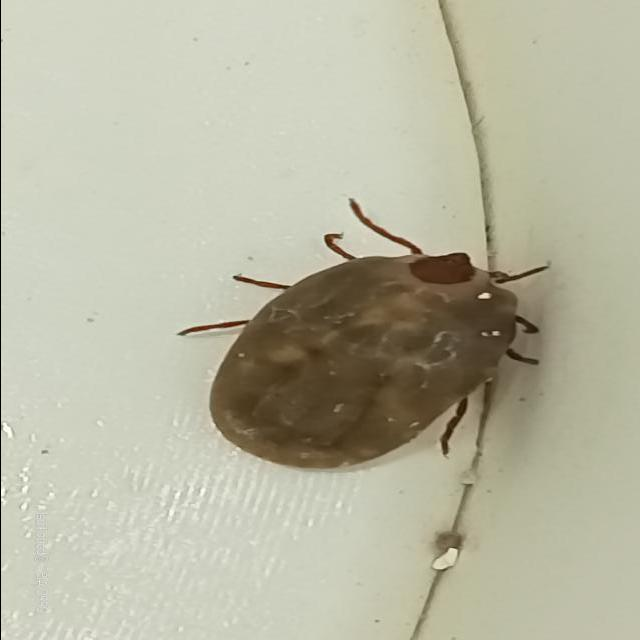Rhipicephalus Sanguineus-F-Fed: (175, 198, 549, 473)
